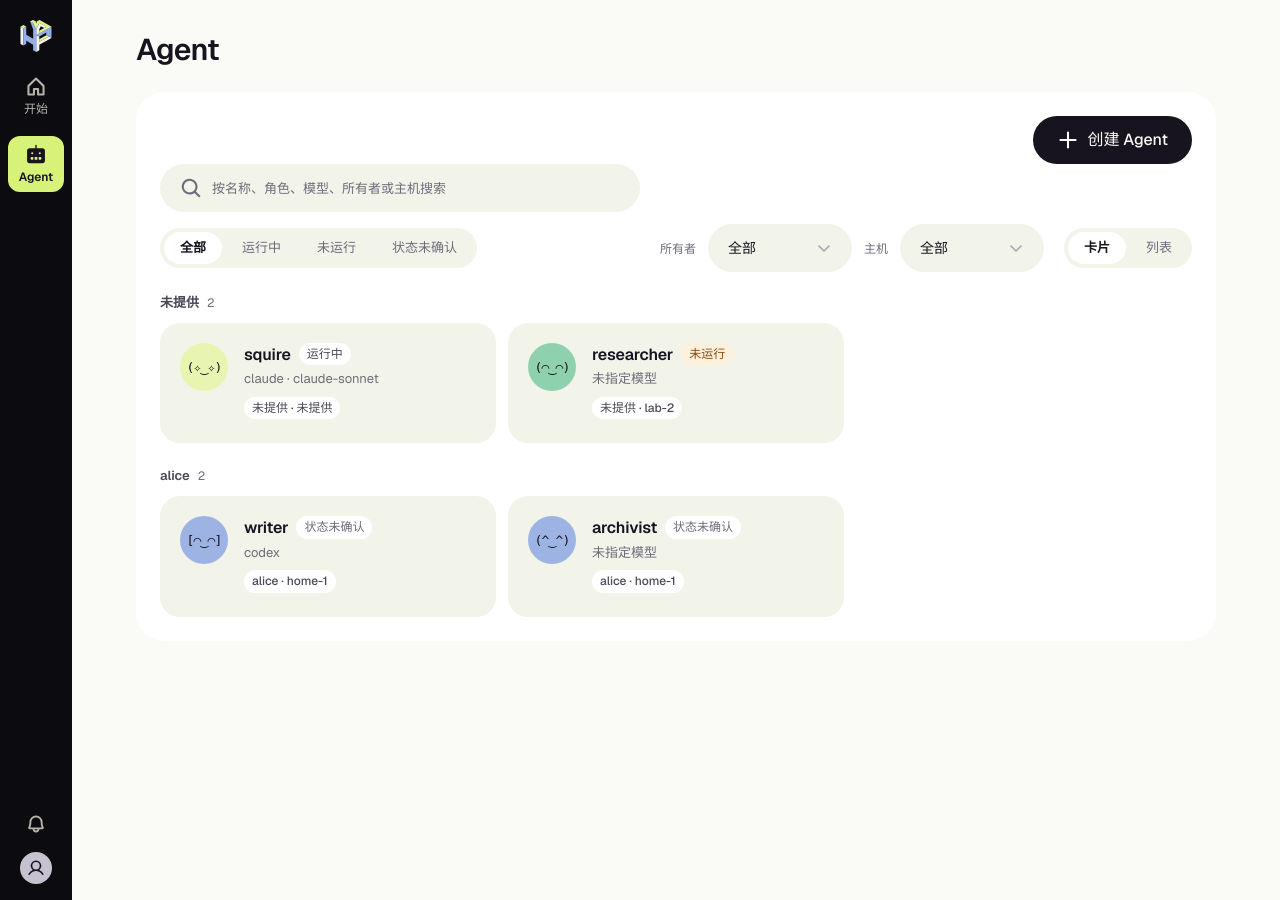
it: Agent detail without a chat destination › offers no 开始对话 when 聊天 is hidden
This screenshot has width=1280, height=900.
Click the button with test id "contact-squire" at (328, 383), box [160,323,496,443]
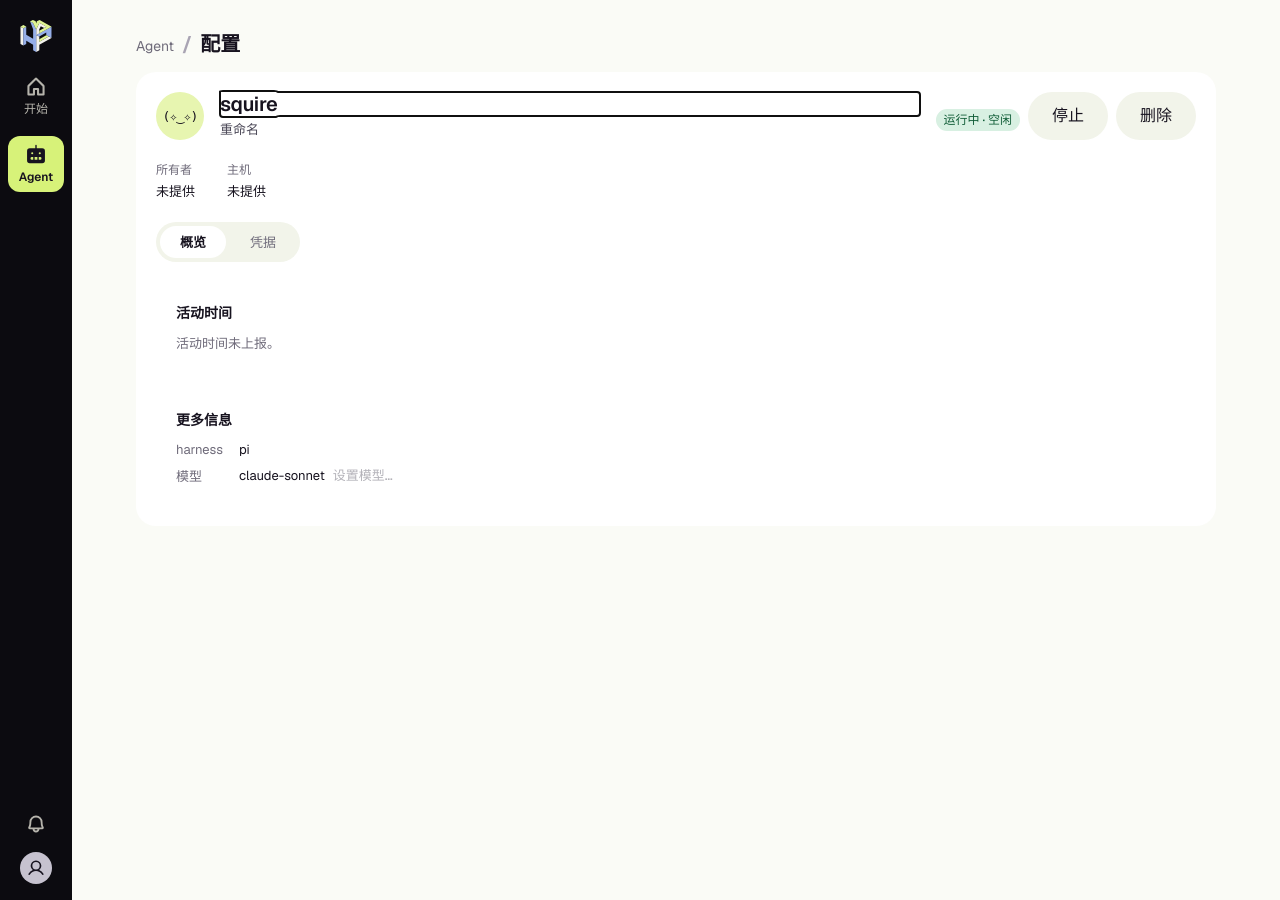
Check: the element with test id "agent-detail-panel" is shown, box [136,72,1216,526]
